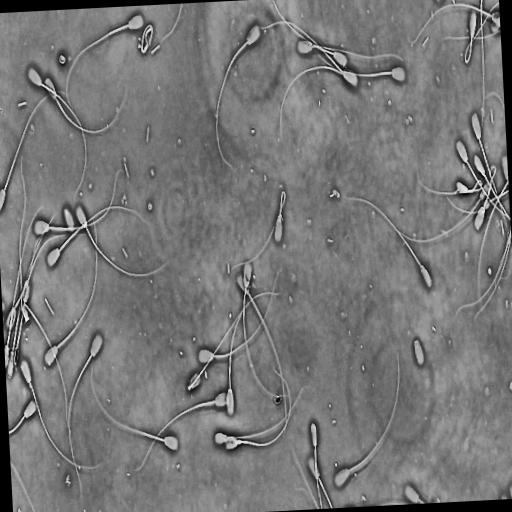coiled-tail: (136, 21, 155, 58), (141, 23, 153, 54)
dirt-particles: (57, 52, 67, 67), (273, 392, 282, 406), (146, 201, 154, 211)
distal-droplet: (54, 92, 57, 96)
folded-tail: (187, 291, 278, 391), (23, 302, 71, 435), (231, 211, 280, 270), (472, 2, 499, 42), (419, 180, 482, 194), (464, 42, 472, 62), (280, 191, 286, 211)
loose-head: (413, 337, 425, 368)
normal: (185, 286, 285, 395), (330, 347, 402, 493), (18, 354, 104, 472), (24, 62, 89, 203), (340, 193, 434, 290), (6, 209, 58, 381), (87, 363, 182, 456), (211, 18, 264, 184), (235, 271, 288, 435), (44, 211, 99, 366), (0, 87, 66, 216), (197, 265, 281, 366), (133, 390, 232, 475), (64, 12, 145, 115), (21, 280, 73, 438), (73, 198, 171, 281), (225, 288, 282, 421), (43, 202, 148, 273), (31, 165, 126, 239), (241, 257, 288, 400), (278, 63, 359, 144), (66, 328, 105, 495), (222, 367, 292, 453), (305, 29, 408, 86), (42, 72, 130, 138), (271, 0, 349, 69), (225, 188, 287, 273), (469, 108, 509, 234), (454, 136, 511, 222), (214, 410, 290, 445), (462, 0, 499, 66), (308, 420, 325, 509), (416, 176, 482, 198)
proximal-droplet: (237, 439, 242, 445)
